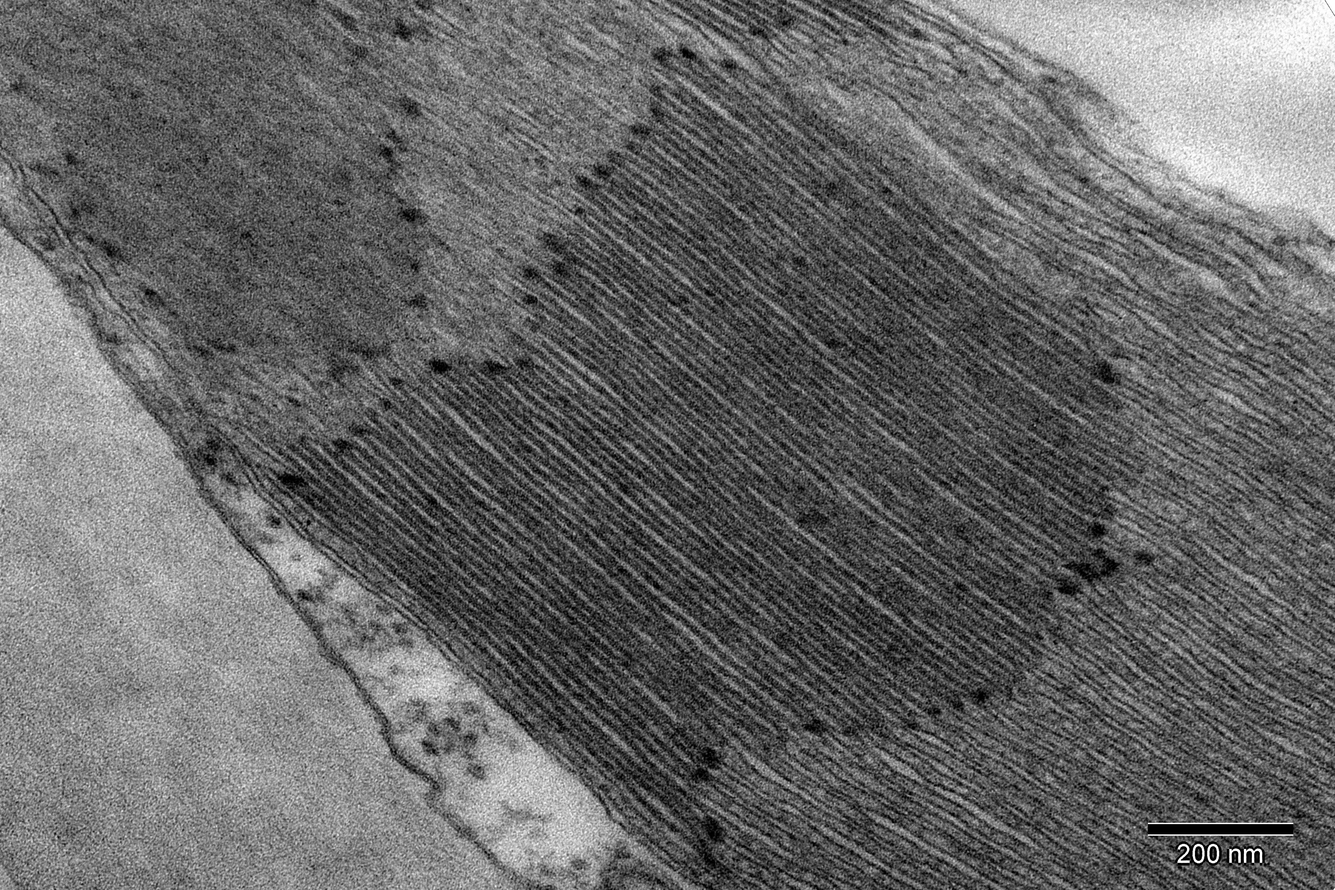granum: (258, 35, 1151, 868), (0, 0, 453, 384), (643, 0, 897, 66)
